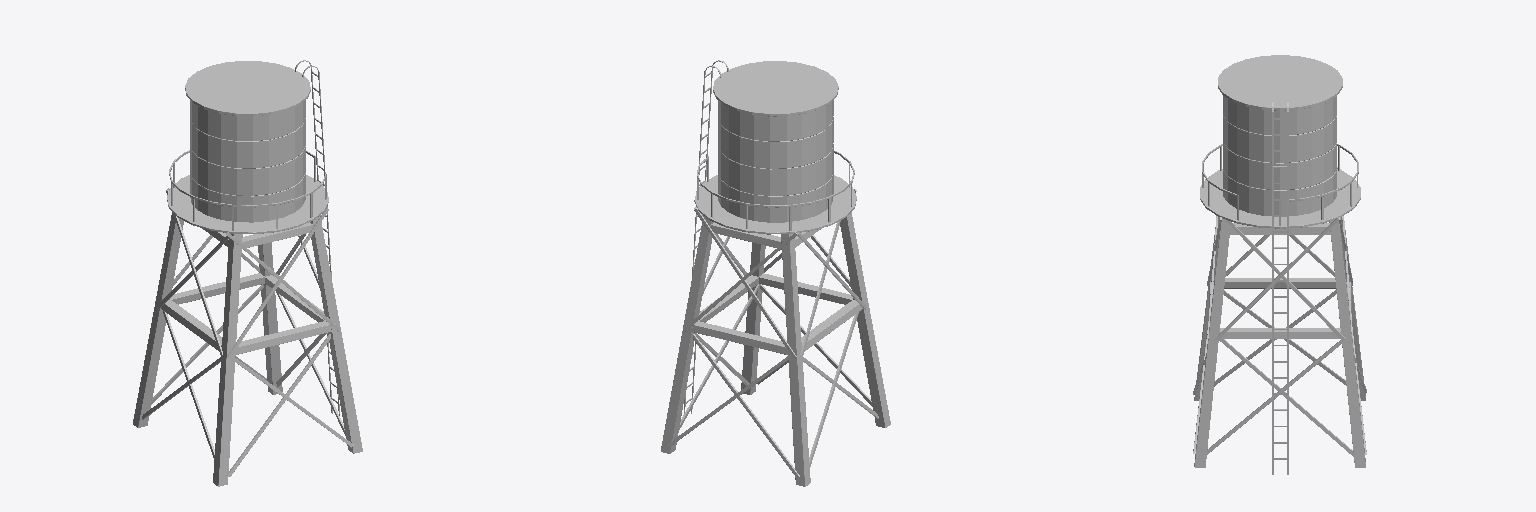
Rendered from SM_WaterTower_MK2.obj.
3 renders of one model, left to right at view 1: azimuth 30°, elevation 25°; view 2: azimuth 150°, elevation 25°; view 3: azimuth 270°, elevation 25°, orthographic.
Parts seen in each view (by area): view 1: Object004, Object008, Cylinder007, Object009, Box005; view 2: Object004, Object008, Cylinder007, Object009, Box005; view 3: Object004, Object008, Cylinder007, Object009, Box005.
Boxes of the visible parts, box(x1,y1,x2,y2) form: Object004: box(133, 188, 362, 486); Object008: box(190, 100, 305, 222); Cylinder007: box(167, 61, 328, 233); Object009: box(142, 284, 353, 476); Box005: box(295, 60, 339, 415); Object004: box(661, 189, 890, 486); Object008: box(718, 100, 833, 222); Cylinder007: box(694, 61, 856, 234); Object009: box(667, 284, 878, 477); Box005: box(684, 60, 728, 413); Object004: box(1194, 167, 1365, 467); Object008: box(1223, 96, 1336, 215); Cylinder007: box(1200, 55, 1360, 228); Object009: box(1193, 290, 1366, 456); Box005: box(1272, 100, 1288, 474).
Size of the model in its own units: 539 by 1153 by 505.